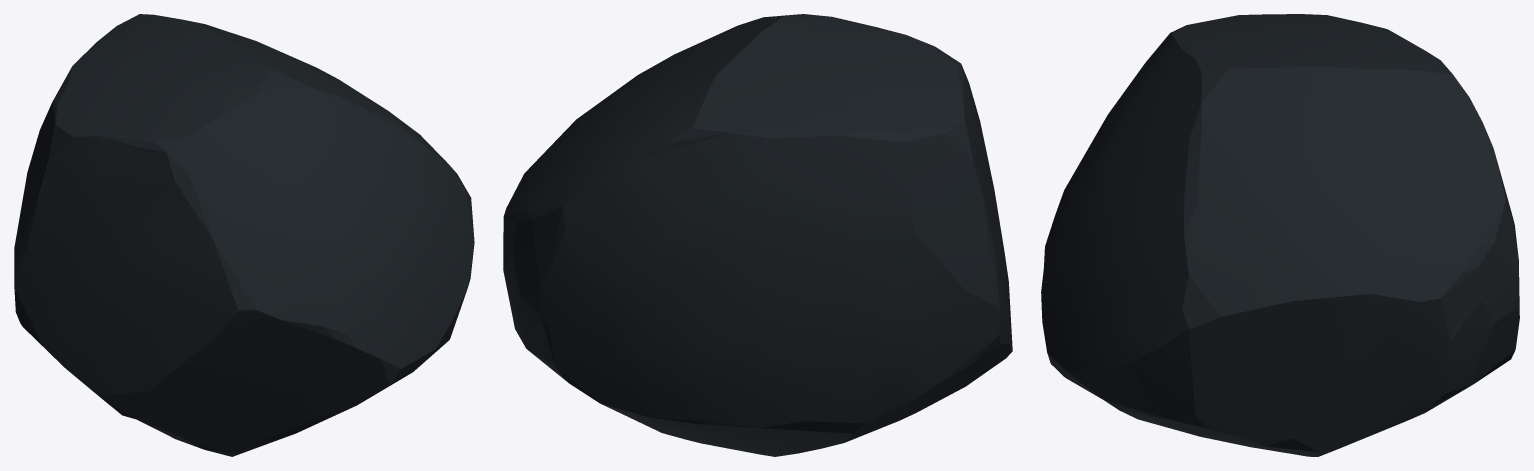
Rendered from Asteroid_m_02.FBX.
3 views of the same model, side by side, from view 1: azimuth 30°, elevation 25°; view 2: azimuth 150°, elevation 25°; view 3: azimuth 270°, elevation 25° (orthographic). The views are drawn at different scales.
Visible parts, largest first — view 1: Asteroid_m_02; view 2: Asteroid_m_02; view 3: Asteroid_m_02.
Boxes of the visible parts, x1=… form: Asteroid_m_02: x1=14, y1=14, x2=474, y2=456; Asteroid_m_02: x1=503, y1=14, x2=1012, y2=456; Asteroid_m_02: x1=1041, y1=14, x2=1519, y2=456.
Size of the model in its own units: 917 by 782 by 885.
